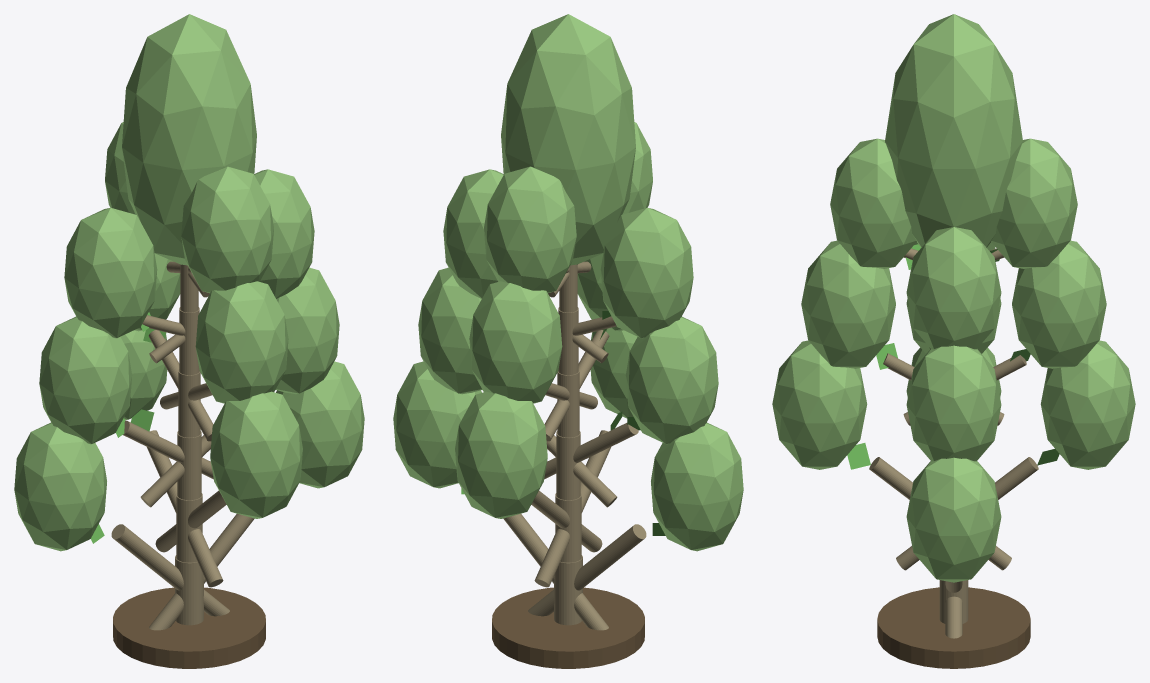
Rendered from plant_stage_6_early_flowering.glb.
The picture shows the model from 3 angles, left to right: view 1: azimuth 30°, elevation 25°; view 2: azimuth 150°, elevation 25°; view 3: azimuth 270°, elevation 25°; orthographic projection.
Parts seen in each view (by area): view 1: Icosphere.012, Icosphere.009, Icosphere.003, Icosphere.011, Icosphere.001, Icosphere.007, Icosphere.005, Cylinder.130, Icosphere, Icosphere.004, Icosphere.008, Icosphere.002 (+17 smaller); view 2: Icosphere.012, Icosphere.009, Icosphere.002, Icosphere.010, Icosphere.001, Icosphere.006, Icosphere.005, Cylinder.130, Icosphere, Icosphere.004, Icosphere.008, Icosphere.003 (+17 smaller); view 3: Icosphere.012, Icosphere, Cylinder.130, Icosphere.008, Icosphere.004, Icosphere.002, Icosphere.003, Icosphere.006, Icosphere.007, Icosphere.010, Icosphere.011, Cylinder.020 (+4 smaller).
Boxes of the visible parts, x1,y1,x2,y2 form: Icosphere.012: (122,14,256,265); Icosphere.009: (64,207,157,338); Icosphere.003: (210,391,302,518); Icosphere.011: (181,166,273,293); Icosphere.001: (14,422,106,551); Icosphere.007: (195,281,288,403); Icosphere.005: (39,316,132,444); Cylinder.130: (113,587,265,668); Icosphere: (276,361,364,488); Icosphere.004: (275,267,339,394); Icosphere.008: (254,169,314,298); Icosphere.002: (120,330,167,420); Icosphere.012: (501,14,635,265); Icosphere.009: (600,207,693,338); Icosphere.002: (455,391,547,518); Icosphere.010: (484,166,576,293); Icosphere.001: (651,422,743,551); Icosphere.006: (469,281,562,403); Icosphere.005: (625,316,718,444); Cylinder.130: (492,587,644,668); Icosphere: (393,361,481,488); Icosphere.004: (418,267,482,394); Icosphere.008: (443,169,503,298); Icosphere.003: (590,328,637,418); Icosphere.012: (885,14,1022,247); Icosphere: (906,457,1001,582); Cylinder.130: (877,587,1030,668); Icosphere.008: (906,227,1001,349); Icosphere.004: (906,345,1001,461); Icosphere.002: (1040,340,1135,469); Icosphere.003: (772,340,867,469); Icosphere.006: (1012,240,1106,368); Icosphere.007: (801,240,895,368); Icosphere.010: (991,138,1077,268); Icosphere.011: (830,138,916,268); Cylinder.020: (896,457,1038,570).
Size of the model in its own units: 0.4042 by 0.7233 by 0.3789.
